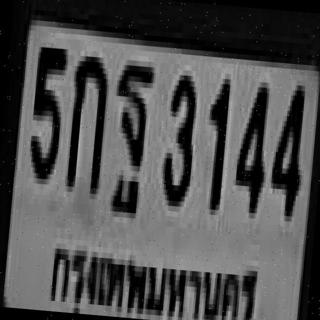A01: (62, 50, 108, 189)
A16: (106, 59, 153, 198)
N01: (199, 72, 229, 210)
N03: (158, 69, 198, 202)
N04: (266, 78, 306, 217), (231, 75, 270, 214)
N05: (26, 41, 65, 180)
P04: (41, 234, 265, 320)
